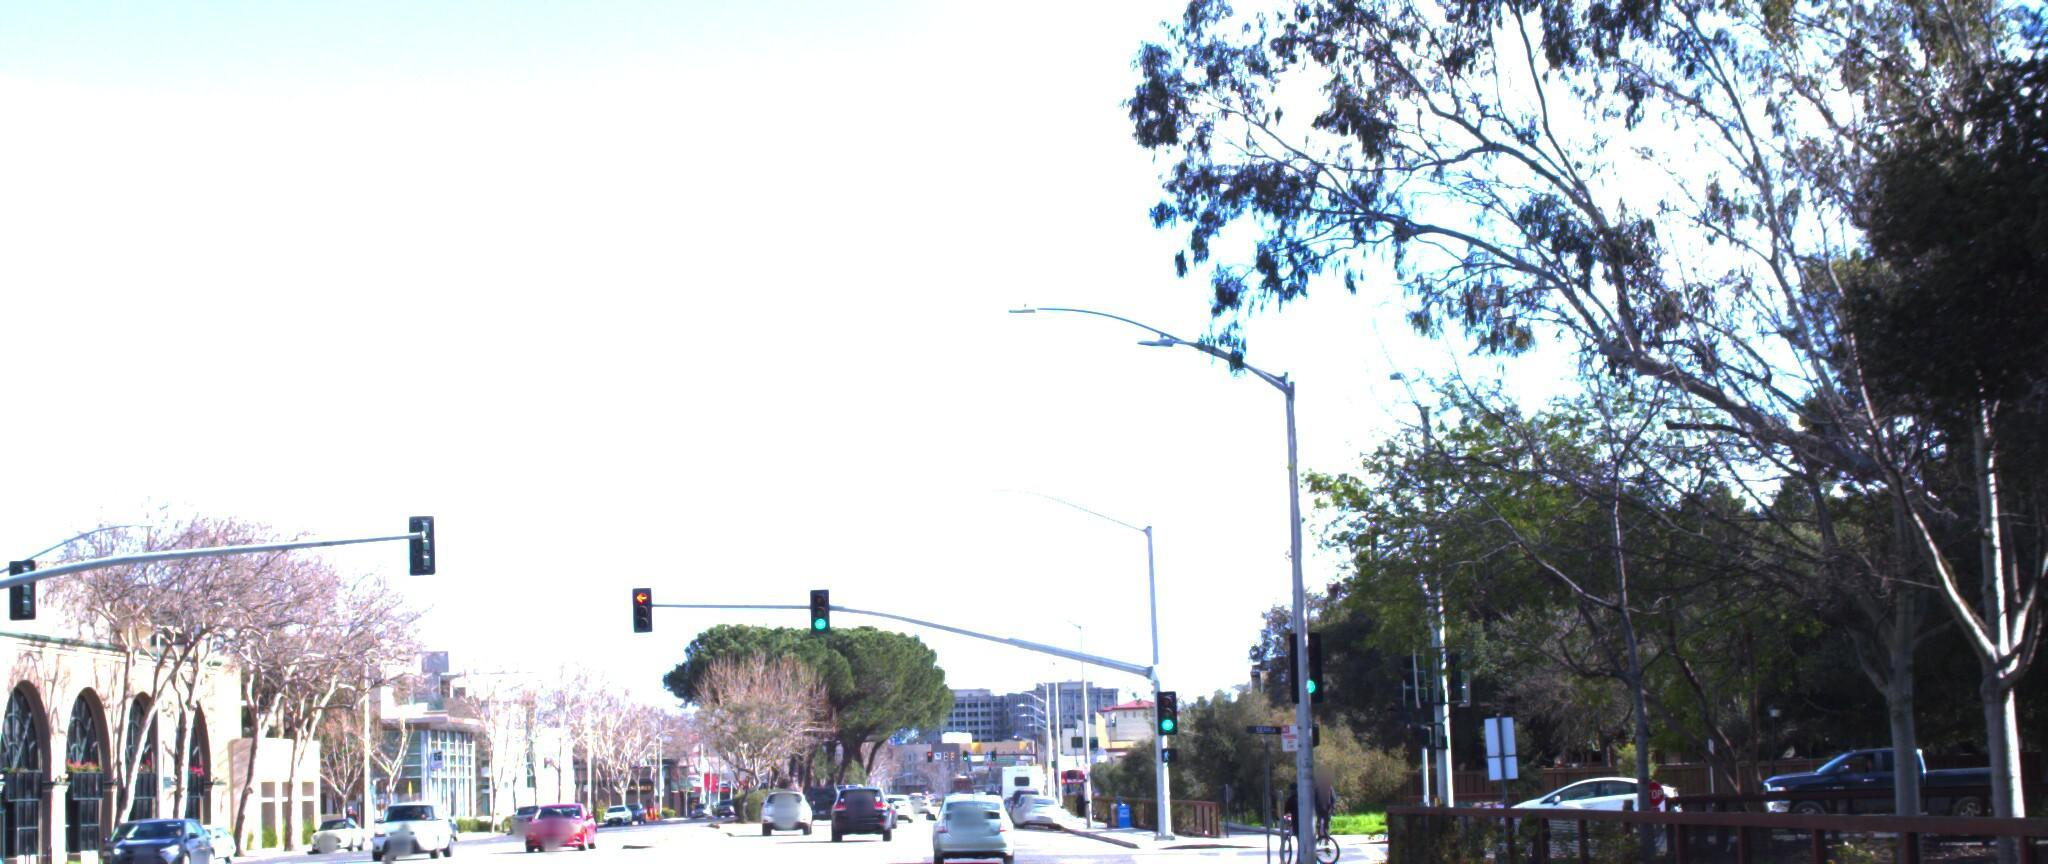bicycle: (1249, 777, 1337, 864)
car: (1736, 741, 2015, 834), (1479, 773, 1674, 841), (917, 787, 1004, 864), (357, 791, 451, 857)
